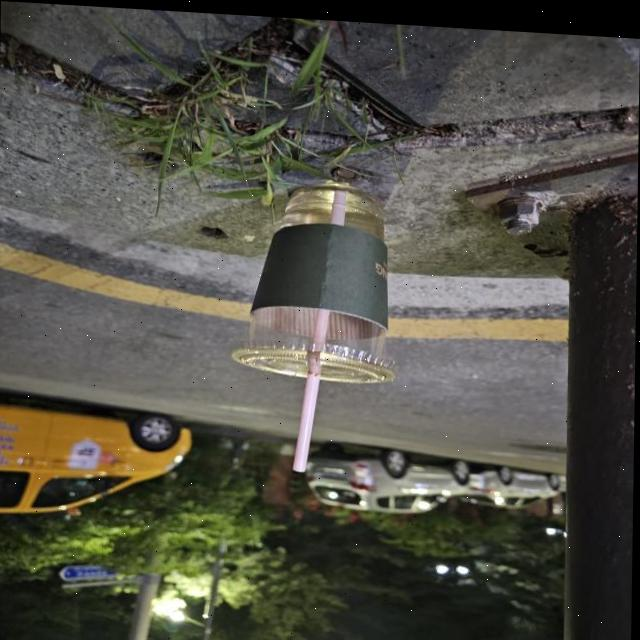cup: (230, 160, 433, 418)
